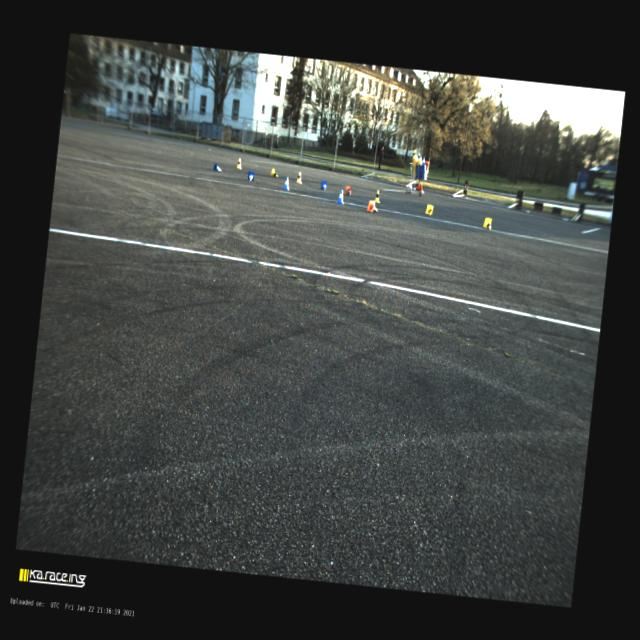blue_cone: (336, 189, 345, 204), (282, 176, 290, 190), (246, 170, 254, 182), (212, 163, 222, 172), (320, 180, 326, 190)
orange_cone: (367, 200, 378, 212), (344, 186, 350, 196)
yellow_cone: (482, 217, 492, 230), (424, 204, 433, 215), (374, 189, 381, 203), (296, 171, 303, 183), (270, 168, 278, 178), (236, 158, 242, 168)
